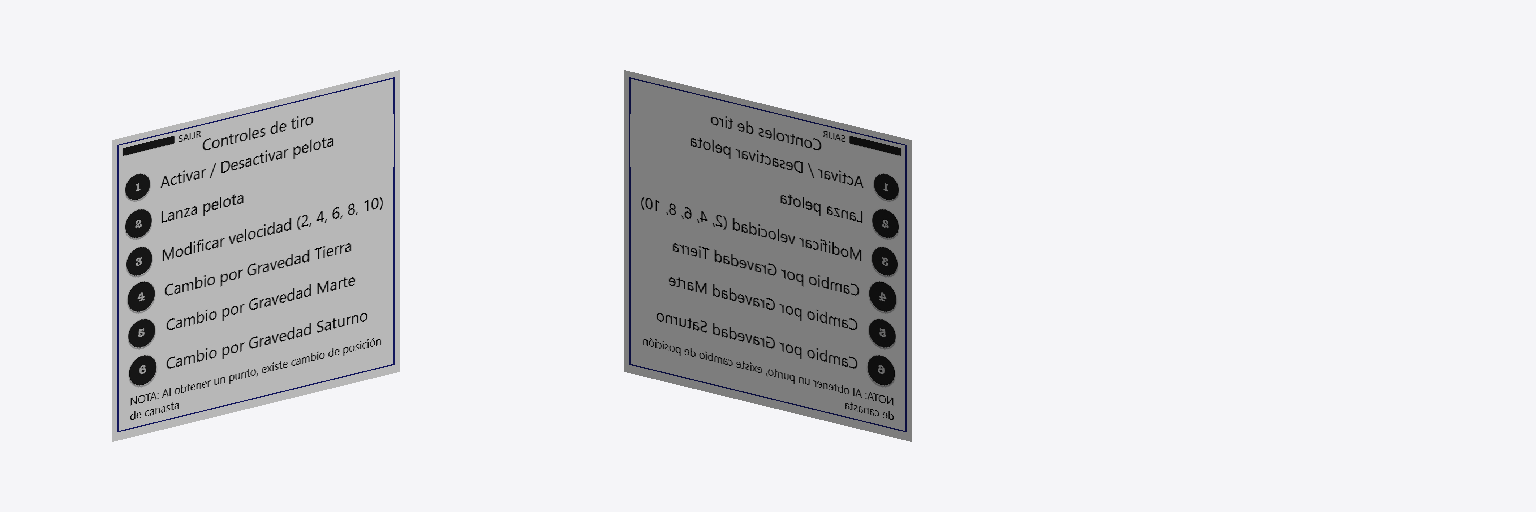
3 views of the same model, side by side, from view 1: azimuth 30°, elevation 25°; view 2: azimuth 150°, elevation 25°; view 3: azimuth 270°, elevation 25° (orthographic).
Visible parts, largest first — view 1: pPlane1; view 2: pPlane1; view 3: none.
Part boxes in pixels (x1,y1,x2,y2): pPlane1: (112,70,399,441); pPlane1: (624,70,911,441).
Bounding box in the file's own units: 2.5 × 2.5 × 0.
Materials: 1 (1 with a texture image).